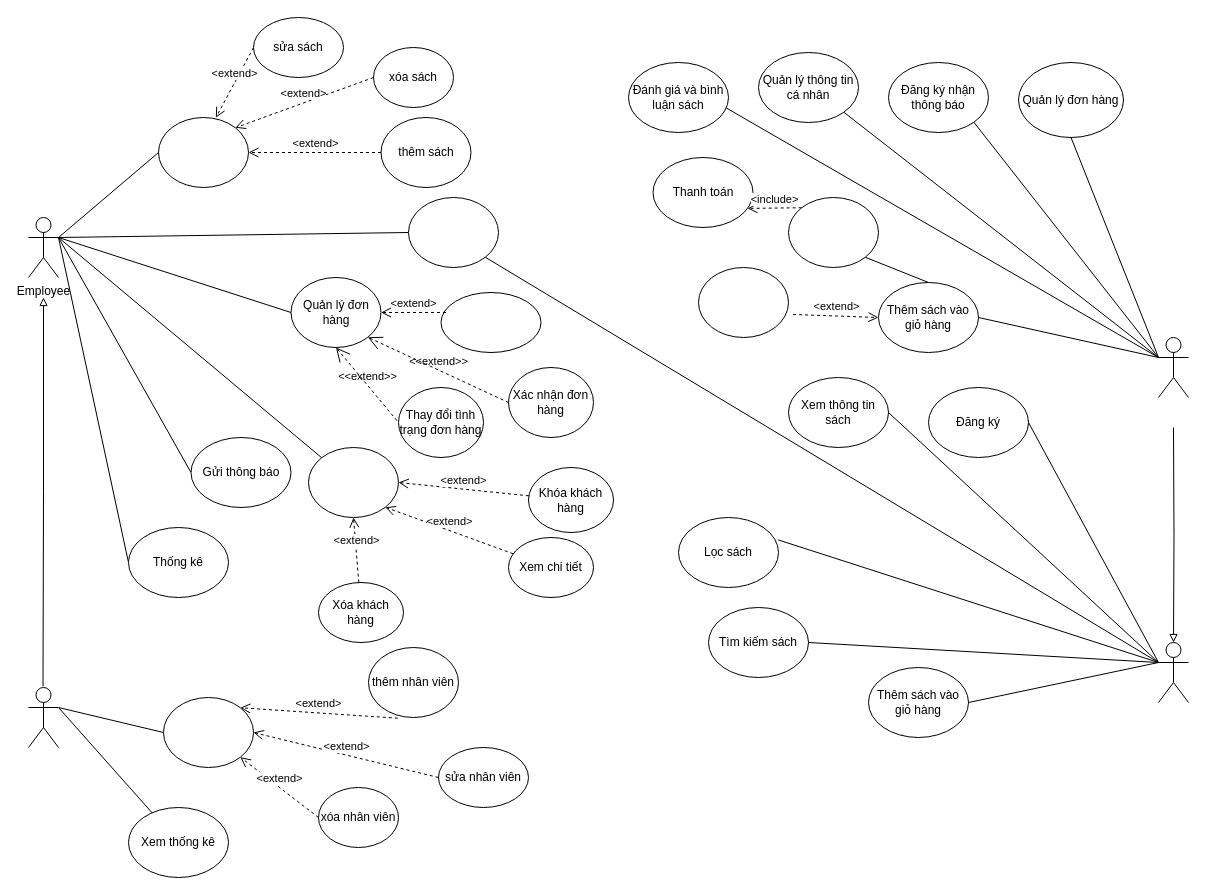
The diagram is 1217 pixels wide and 895 high, and some of its shapes have lost their labels. Here are the shapes that lost their labels. From the top down, the box of each, then its label:
(158, 116, 248, 188): Quản lý sách
(408, 196, 498, 268): Đăng nhập
(788, 196, 878, 268): Mua sách
(440, 292, 541, 352): Xem chi tiết đơn hàng
(698, 266, 788, 338): Chỉnh sửa giỏ hàng
(1158, 336, 1188, 398): Customer
(308, 446, 398, 518): Quản lý khách hàng
(1158, 642, 1188, 702): Guest
(28, 686, 58, 748): Admin
(162, 696, 254, 768): Quản lý nhân viên
